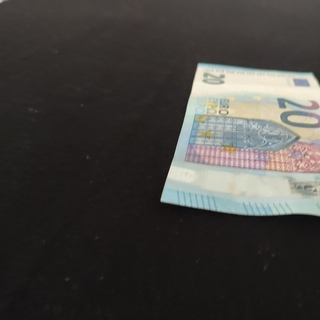20EUROFront: (159, 62, 320, 231)
